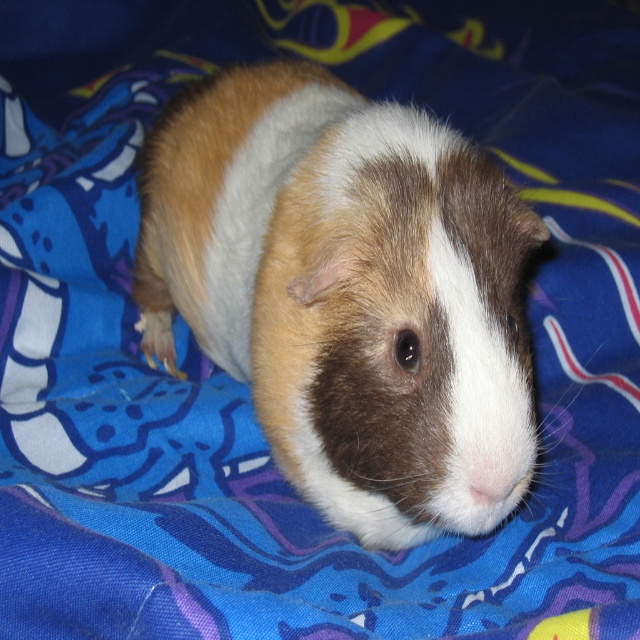Hamster: (137, 59, 609, 555)
